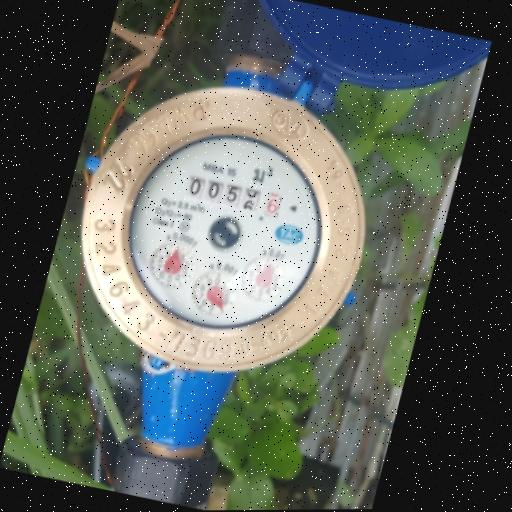0: (185, 176, 205, 200), (204, 180, 223, 203)
5: (242, 188, 261, 211), (223, 184, 241, 207)
6: (264, 192, 282, 217)
border_water_meter_number: (182, 173, 285, 220)
